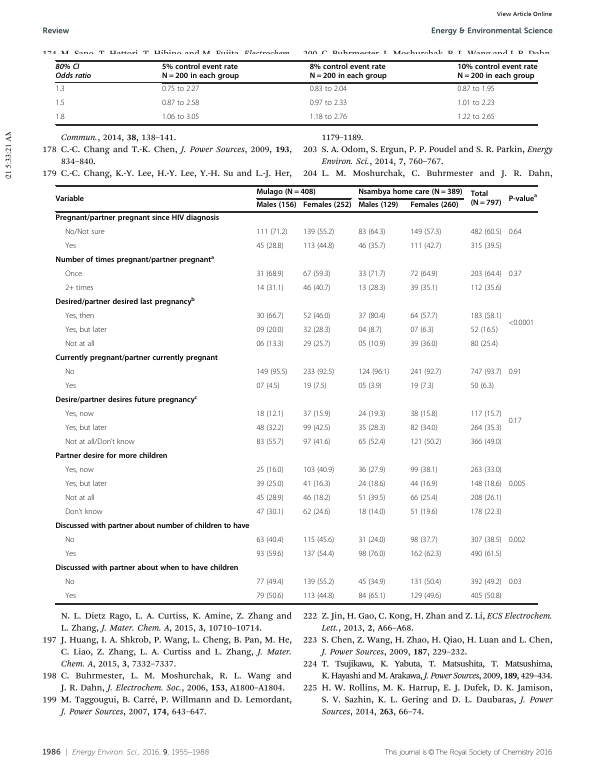borderless: (54, 184, 537, 603), (54, 59, 537, 124)
cell: (55, 522, 250, 532), (55, 564, 239, 574), (55, 255, 215, 266), (55, 214, 220, 224), (55, 354, 219, 364), (55, 395, 198, 406), (55, 297, 196, 308), (457, 63, 538, 81), (161, 63, 240, 81), (309, 63, 388, 81), (55, 452, 168, 462), (357, 188, 463, 197), (64, 438, 136, 447), (55, 63, 92, 80), (470, 190, 502, 208), (255, 188, 316, 197), (302, 201, 352, 211), (409, 201, 459, 211), (255, 201, 297, 211), (357, 201, 399, 211), (64, 326, 108, 335), (64, 424, 108, 433), (64, 480, 108, 489), (64, 228, 105, 237), (64, 508, 103, 517), (508, 193, 538, 204), (55, 194, 85, 204), (255, 228, 288, 237), (302, 228, 335, 237), (409, 228, 442, 237), (302, 242, 335, 251), (409, 242, 442, 251), (255, 368, 288, 377), (302, 368, 335, 377), (357, 368, 390, 377), (409, 368, 442, 377), (409, 438, 442, 447), (302, 466, 335, 475), (302, 536, 335, 545), (302, 550, 335, 559), (409, 550, 442, 559), (302, 578, 335, 587), (409, 578, 442, 587), (302, 592, 335, 601), (409, 592, 442, 601), (470, 228, 502, 237), (470, 242, 502, 251), (470, 270, 502, 279), (470, 284, 502, 293), (470, 312, 502, 321), (470, 368, 502, 377), (470, 410, 502, 419), (470, 424, 502, 433), (470, 438, 502, 447), (470, 466, 502, 475), (470, 480, 502, 489), (470, 494, 502, 503), (470, 508, 502, 517), (470, 536, 502, 545), (470, 550, 502, 559), (470, 578, 502, 587), (470, 592, 502, 601), (64, 312, 95, 321), (64, 340, 95, 349), (64, 410, 95, 419), (64, 466, 95, 475), (64, 494, 95, 503), (161, 86, 200, 93), (309, 86, 348, 93), (457, 86, 496, 93), (161, 100, 200, 107), (309, 100, 348, 107), (457, 100, 496, 107), (161, 114, 200, 121), (309, 114, 348, 121), (457, 114, 496, 121), (64, 284, 94, 293), (357, 228, 386, 237), (255, 242, 284, 251), (357, 242, 386, 251), (255, 270, 284, 279), (302, 270, 331, 279), (357, 270, 386, 279), (409, 270, 438, 279), (255, 284, 284, 293), (302, 284, 331, 293), (357, 284, 386, 293), (409, 284, 438, 293), (255, 312, 284, 321), (302, 312, 331, 321), (357, 312, 386, 321), (409, 312, 438, 321), (255, 326, 284, 335), (302, 326, 331, 335), (470, 326, 499, 335), (255, 340, 284, 349), (302, 340, 331, 349), (357, 340, 386, 349), (409, 340, 438, 349), (470, 340, 499, 349), (255, 410, 284, 419), (302, 410, 331, 419), (357, 410, 386, 419), (409, 410, 438, 419), (255, 424, 284, 433), (302, 424, 331, 433), (357, 424, 386, 433), (409, 424, 438, 433), (255, 438, 284, 447), (302, 438, 331, 447), (357, 438, 386, 447), (255, 466, 284, 475), (357, 466, 386, 475), (409, 466, 438, 475), (255, 480, 284, 489), (302, 480, 331, 489), (357, 480, 386, 489), (409, 480, 438, 489), (255, 494, 284, 503), (302, 494, 331, 503), (357, 494, 386, 503), (409, 494, 438, 503), (255, 508, 284, 517), (302, 508, 331, 517), (357, 508, 386, 517), (409, 508, 438, 517), (255, 536, 284, 545), (357, 536, 386, 545), (409, 536, 438, 545), (255, 550, 284, 559), (357, 550, 386, 559), (255, 578, 284, 587), (357, 578, 386, 587), (255, 592, 284, 601), (357, 592, 386, 601), (508, 319, 535, 328), (357, 326, 383, 335), (409, 326, 435, 335), (255, 382, 281, 391), (357, 382, 383, 391), (409, 382, 435, 391), (302, 382, 327, 391), (470, 382, 495, 391), (64, 270, 83, 279), (508, 480, 526, 489), (508, 536, 526, 545), (508, 228, 522, 237), (508, 270, 522, 279), (508, 368, 522, 377), (508, 417, 522, 426), (508, 578, 522, 587), (64, 242, 77, 251), (64, 382, 77, 391), (64, 550, 77, 559), (64, 592, 77, 601), (64, 368, 75, 377), (64, 536, 75, 545), (64, 578, 75, 587), (55, 86, 65, 93), (55, 100, 65, 107), (55, 114, 65, 121)
